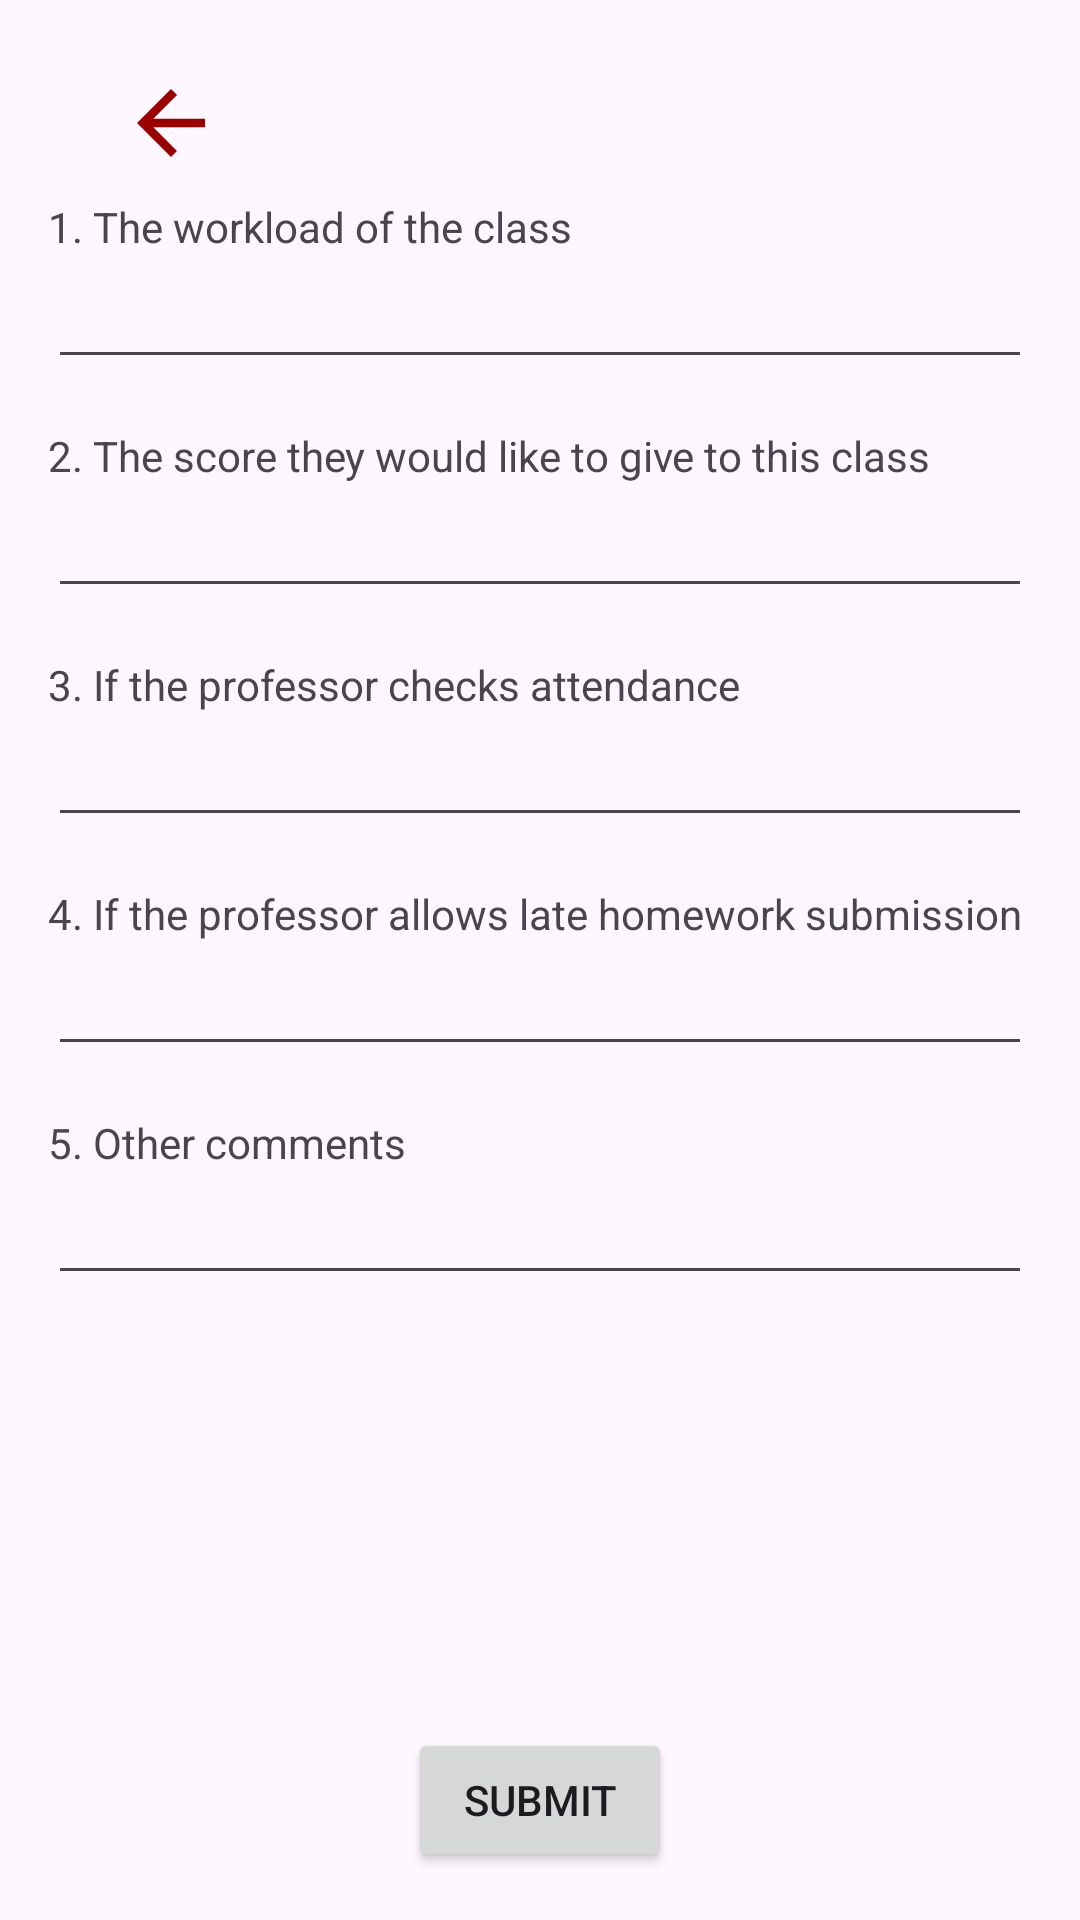

Icon bounding boxes for this 1080×1920 phone screenshot, format (x1, y1, x2, y2):
back arrow: (137, 89, 205, 157)
